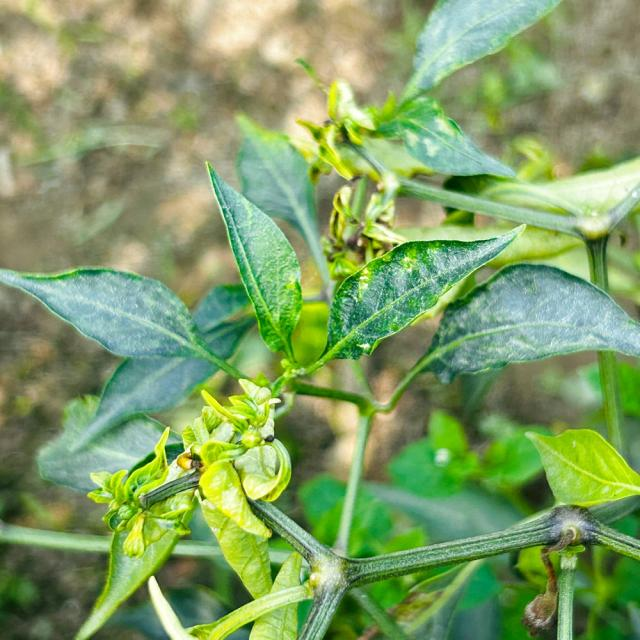Chilli_Leaf_Curl: (1, 0, 638, 638), (0, 264, 254, 388), (317, 222, 527, 368), (424, 262, 638, 385), (204, 160, 304, 365), (231, 112, 330, 294), (398, 0, 562, 107), (524, 427, 638, 509)
